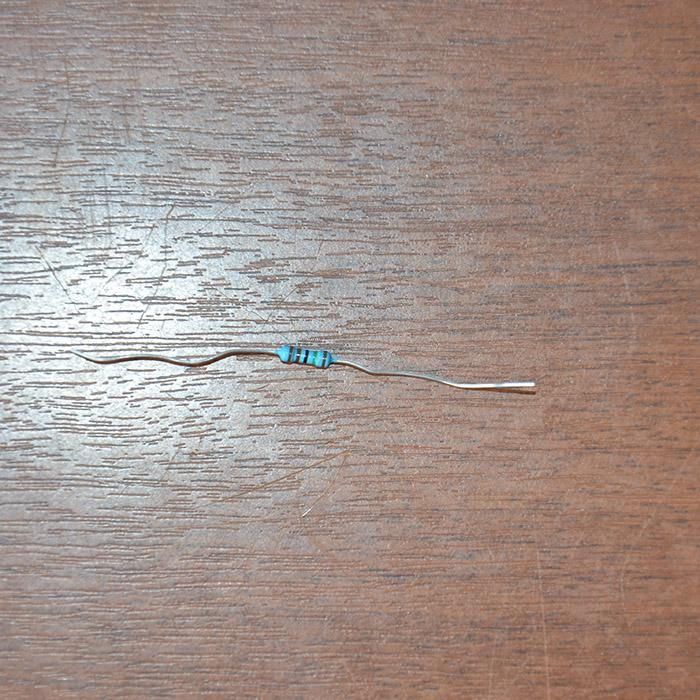resistor: (276, 343, 332, 368)
